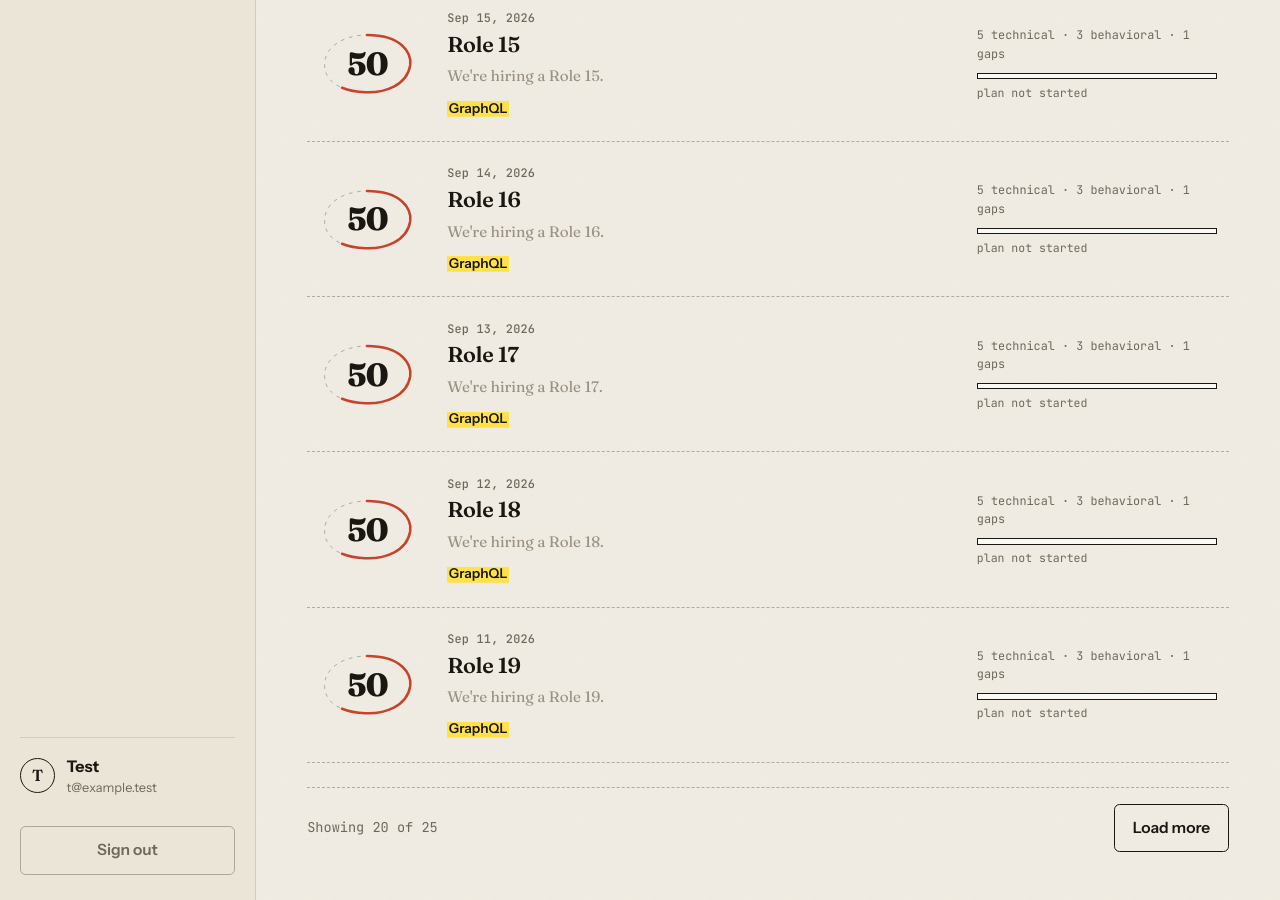
Scenario: Report history › loads more pages on request
This screenshot has width=1280, height=900.
(page scrolled)
Expected: the text "Showing 20 of 25" is shown, [307,817,438,838]
Click the button "Load more" at (1171, 828), box [1114,804,1229,852]
(page scrolled)
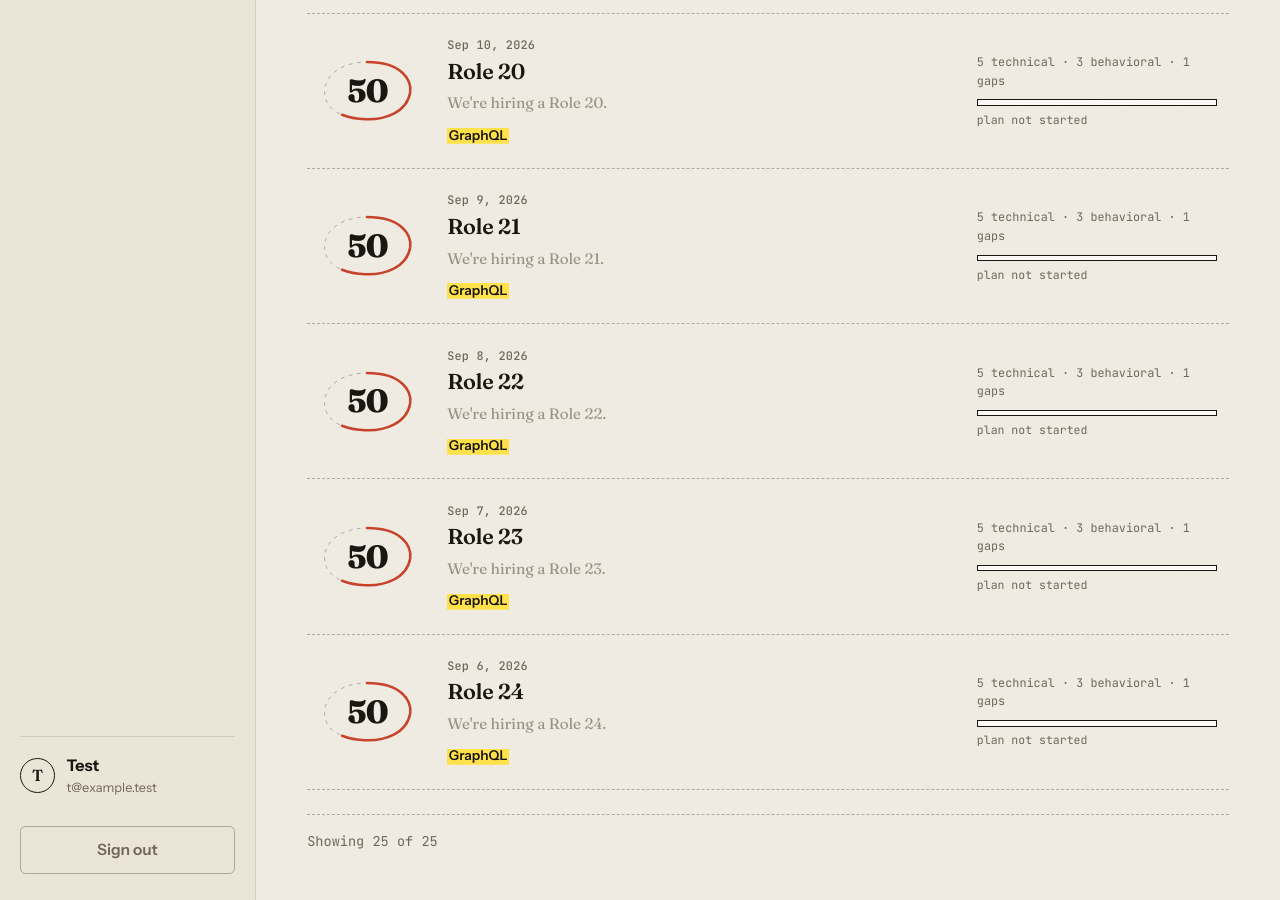
Expected: the heading "Role 24" is shown, [447,678,524,705]
Expected: the button "Load more" is gone
